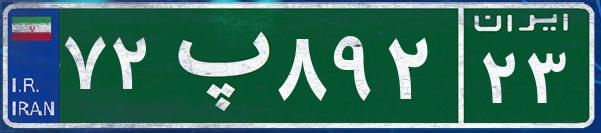2: (385, 28, 445, 110), (475, 38, 525, 113), (110, 28, 158, 105)
3: (525, 38, 570, 115)
7: (57, 26, 110, 107)
8: (273, 28, 330, 110)
9: (330, 28, 385, 110)
پ: (158, 15, 273, 115)
